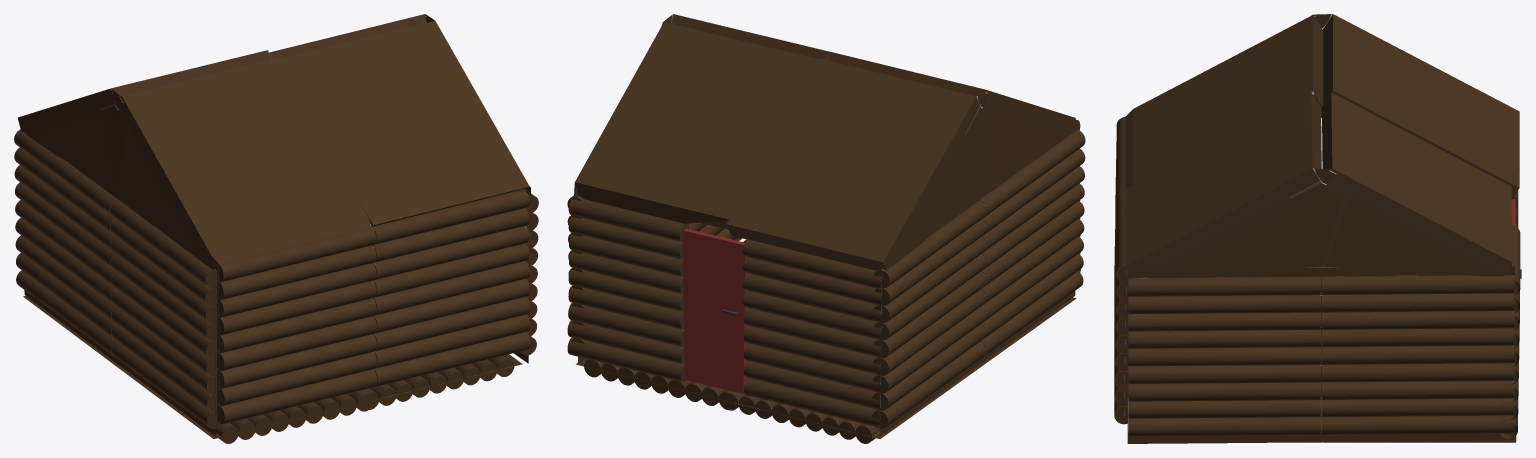
Rendered from scuffedHouse.fbx.
3 renders of one model, left to right at view 1: azimuth 30°, elevation 25°; view 2: azimuth 150°, elevation 25°; view 3: azimuth 270°, elevation 25°, orthographic.
Visible parts, largest first — view 1: Plane.011; view 2: Plane.011, zOvi1; view 3: Plane.011.
Part boxes in pixels (left/top/right/bottom): Plane.011: left=14, top=14, right=538, bottom=443; Plane.011: left=567, top=14, right=1085, bottom=443; zOvi1: left=683, top=228, right=747, bottom=393; Plane.011: left=1114, top=14, right=1520, bottom=443.
Size of the model in its own units: 396 by 325 by 420.
4 materials, 4 textured.
